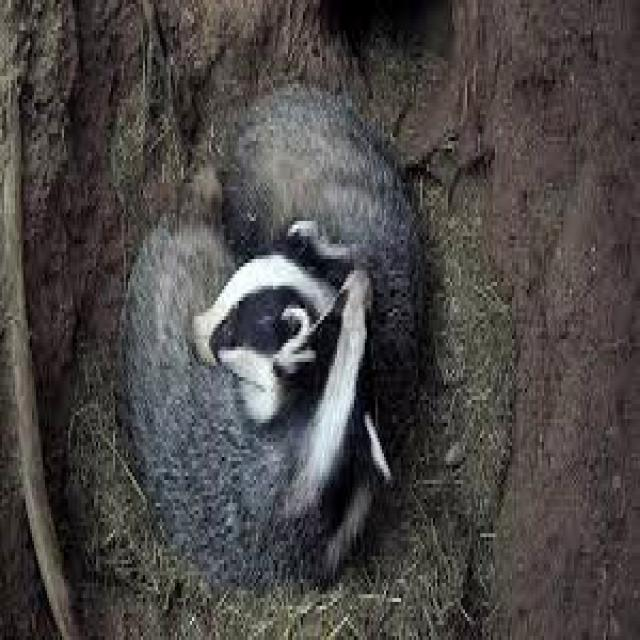badger: (126, 168, 390, 575), (194, 88, 420, 396)
